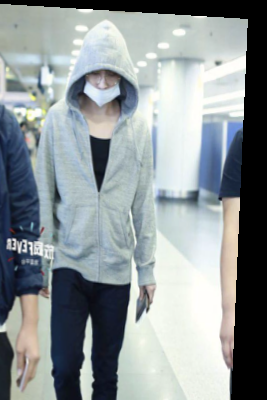mask_weared_incorrect: (70, 19, 146, 119)
